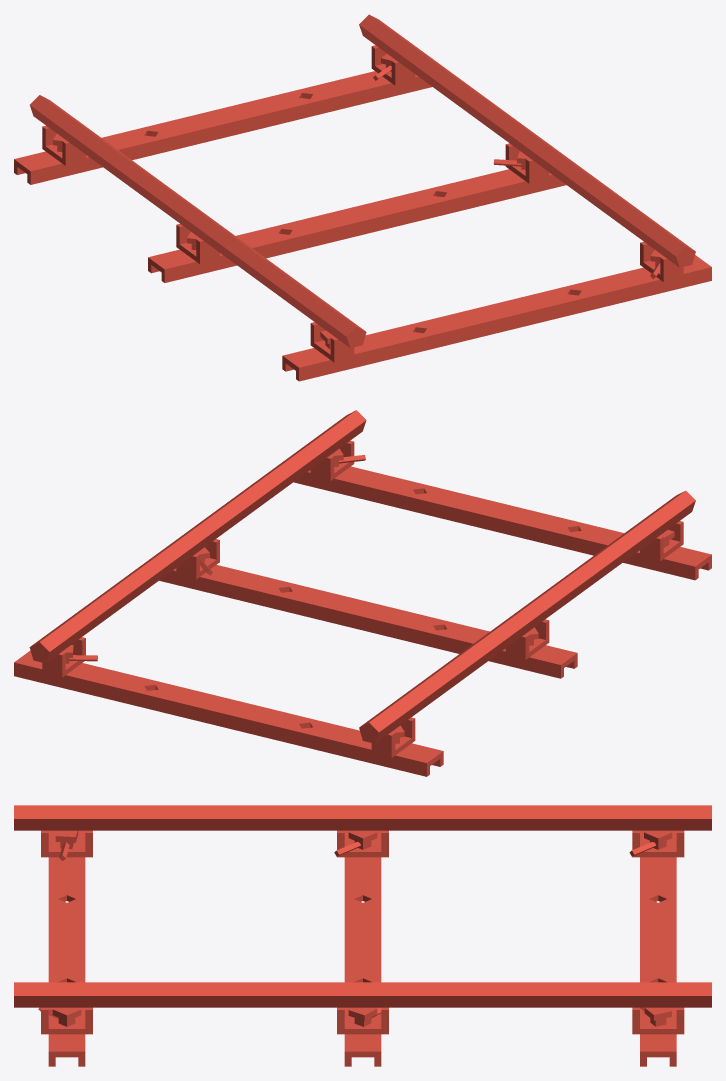
The model's file is SM_Rail_Dolly_1m.fbx.
3 views of the same model, one above another, from view 1: azimuth 30°, elevation 25°; view 2: azimuth 150°, elevation 25°; view 3: azimuth 270°, elevation 25° (orthographic). The views are drawn at different scales.
Visible parts, largest first — view 1: SM_Rail_Dolly_1m; view 2: SM_Rail_Dolly_1m; view 3: SM_Rail_Dolly_1m.
Boxes of the visible parts, x1,y1,x2,y2 form: SM_Rail_Dolly_1m: (14, 14, 711, 381); SM_Rail_Dolly_1m: (14, 410, 711, 776); SM_Rail_Dolly_1m: (14, 805, 711, 1066).
Bounding box in the file's own units: 100 × 75.21 × 9.77.
